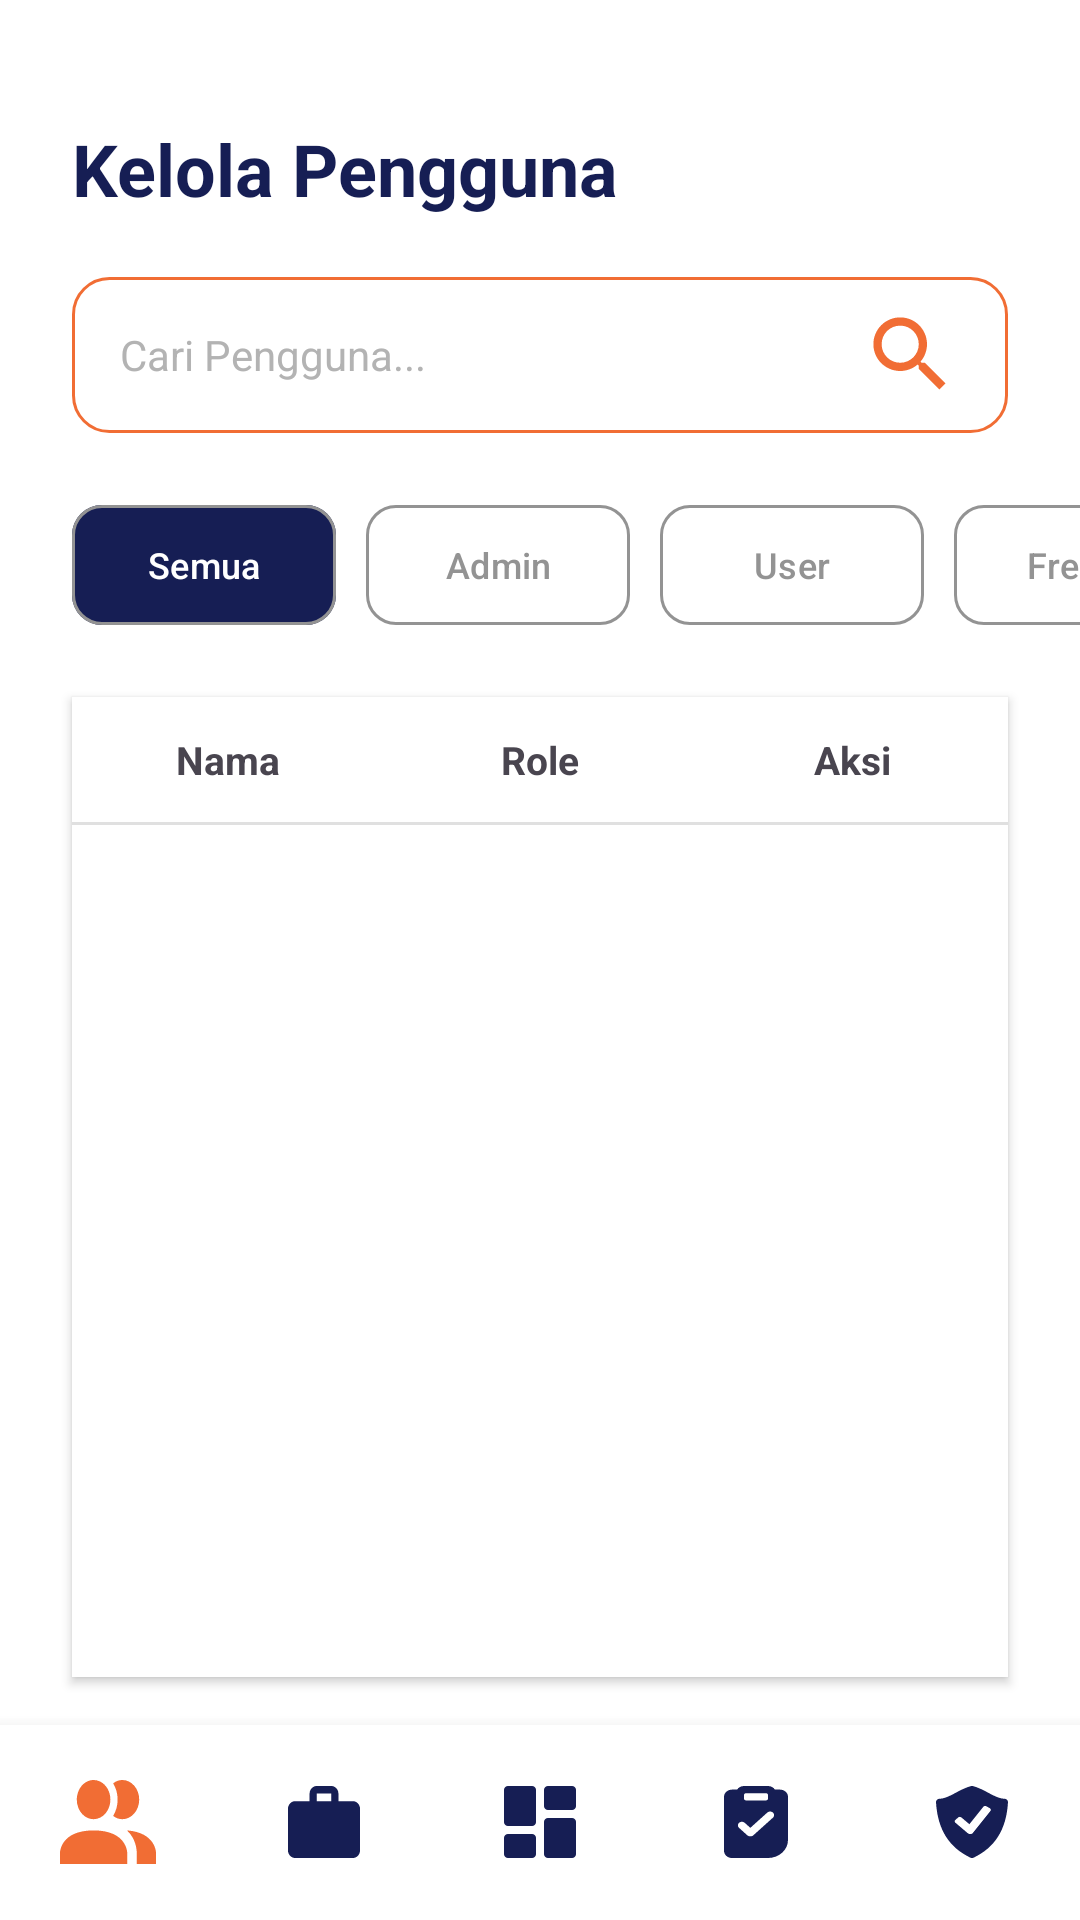

Screen size 1080x1920. Icon name, then its center in pixels as (x=x, y=y):
bag: (x=324, y=1822)
dashboardadmin: (x=540, y=1822)
klpengguna: (x=108, y=1822)
